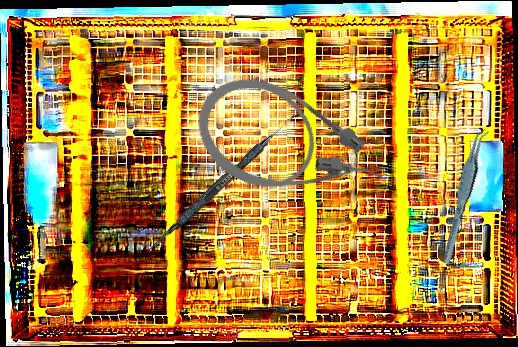Cannula: (178, 58, 399, 237)
Spatula Surgical: (145, 104, 303, 258)
Tissue Forceps: (426, 126, 503, 266)
